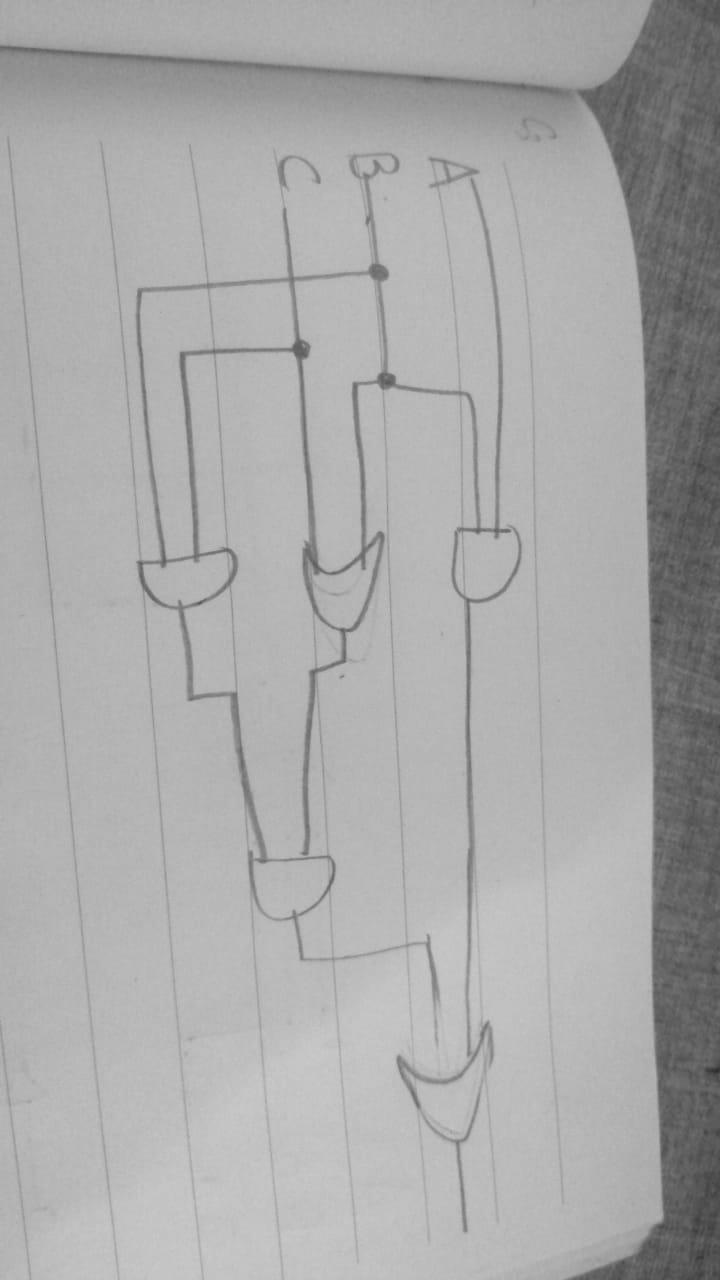AND: (220, 835, 363, 939), (433, 508, 546, 618), (125, 547, 261, 622)
OR: (380, 1009, 541, 1159), (288, 520, 406, 649)
